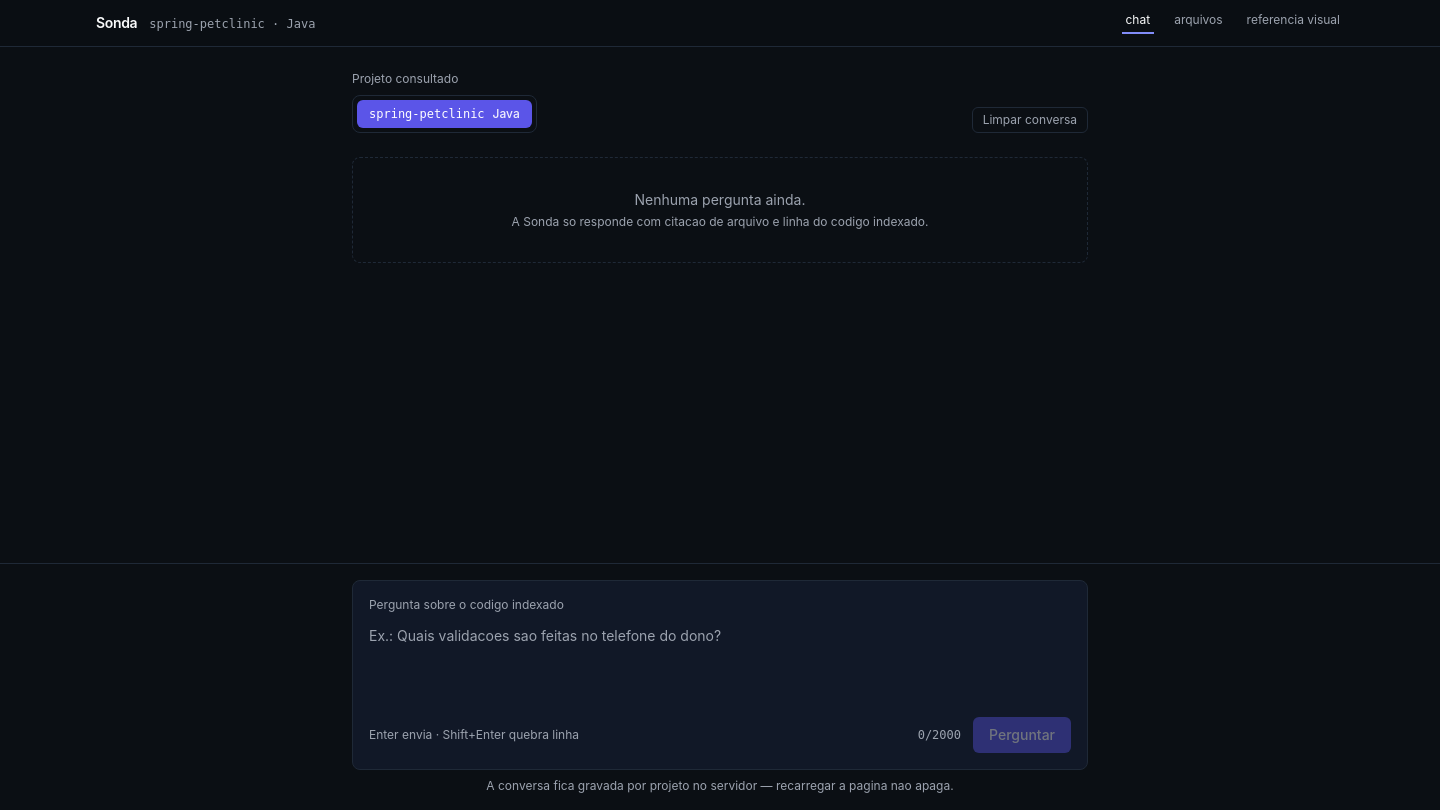
it: ChatPage › distingue NO_EVIDENCE: diz o motivo e nao mostra citacao
Type "receita de bolo" into the text box labelled "Pergunta sobre o codigo indexado" at (720, 665), box [369,625,1071,705]
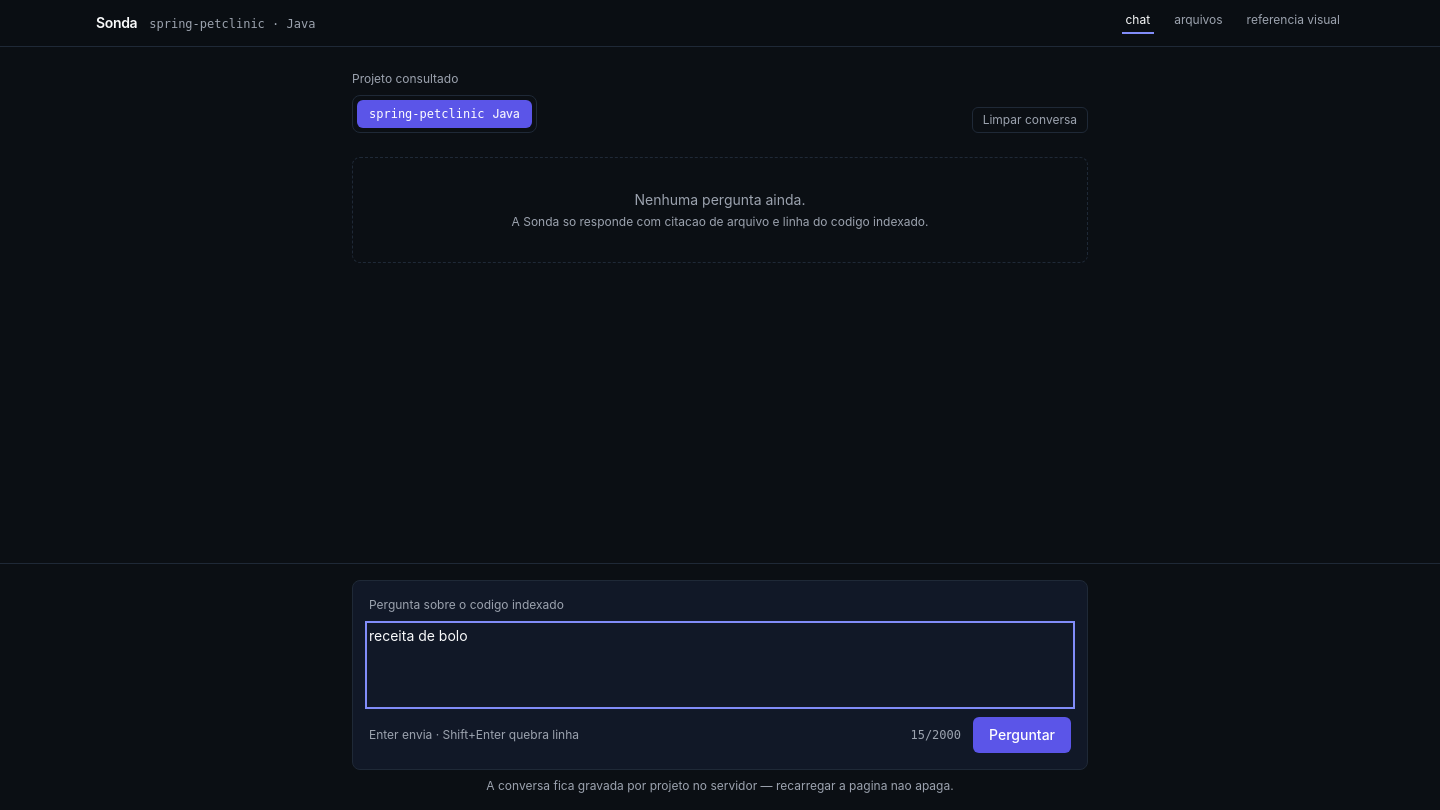
Press Enter
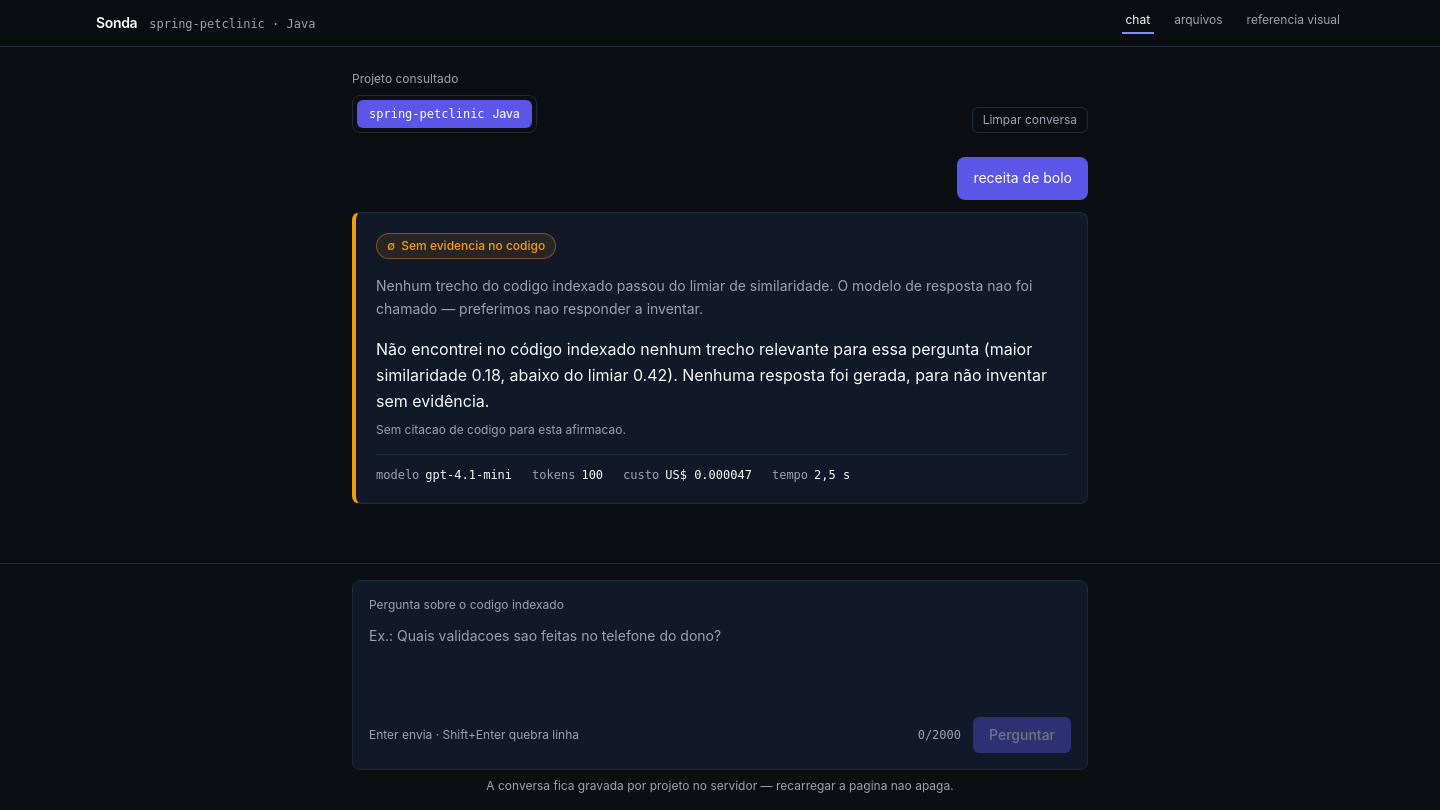
Now the text "Sem evidencia no codigo" is shown, box [401,238,545,253]
Now the text "nao foi chamado" is shown, box [376,277,1032,317]
